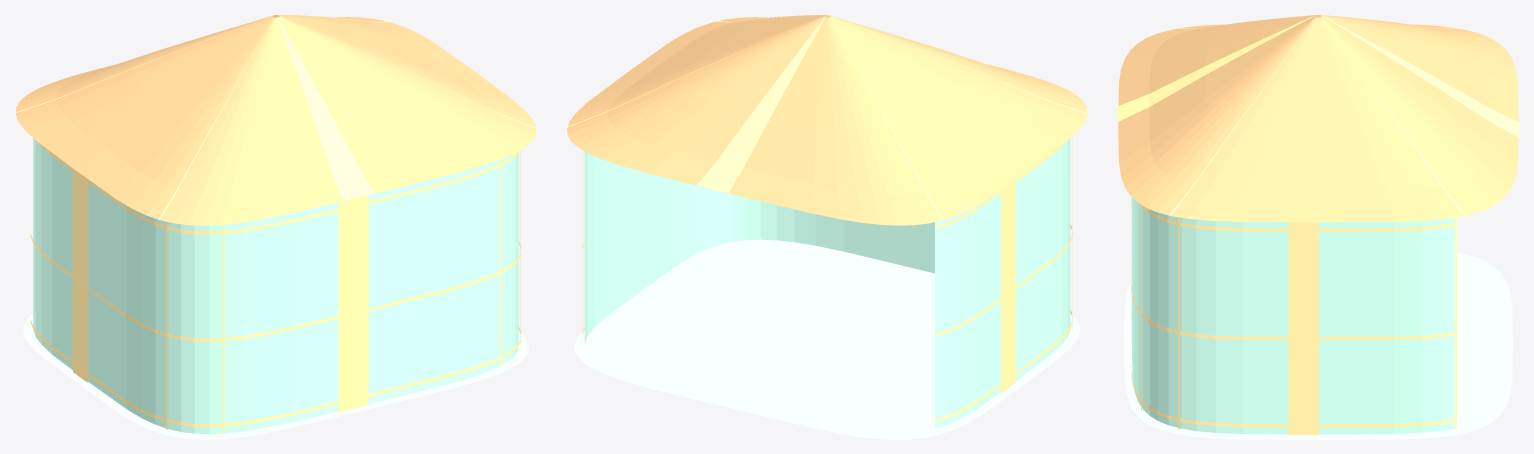
The model's file is cabin-afrobeats.glb.
The picture shows the model from 3 angles, left to right: view 1: azimuth 30°, elevation 25°; view 2: azimuth 150°, elevation 25°; view 3: azimuth 270°, elevation 25°; orthographic projection.
Visible parts, largest first — view 1: GROOVE PAVILION; view 2: GROOVE PAVILION; view 3: GROOVE PAVILION.
Boxes of the visible parts, x1,y1,x2,y2 form: GROOVE PAVILION: (14,14,537,439); GROOVE PAVILION: (566,14,1088,439); GROOVE PAVILION: (1117,15,1519,439).
Size of the model in its own units: 9.78 by 7.53 by 8.38.
